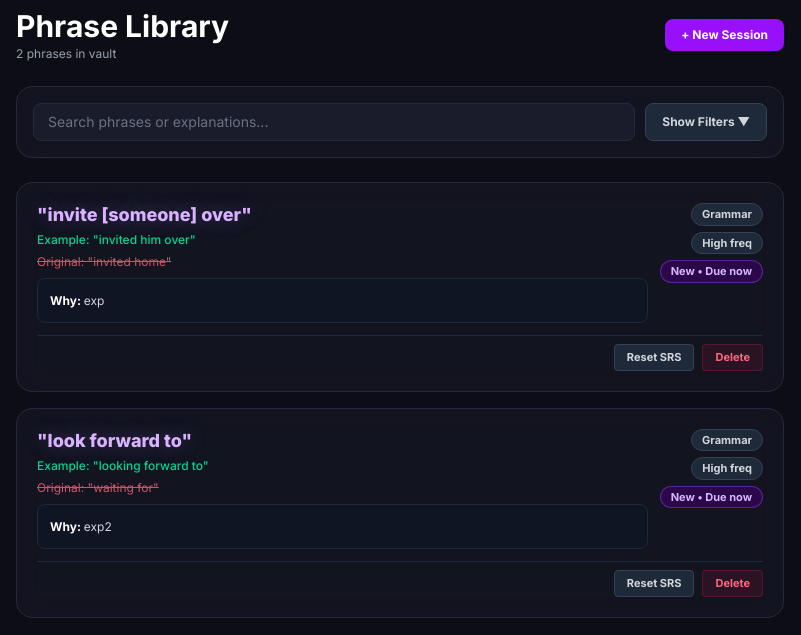
Test: Library Component › displays stored phrases and filters by construction search term
This screenshot has width=801, height=635.
Expected: the text "\"invite [someone] over\"" is shown, [37, 204, 252, 225]
Expected: the text "\"look forward to\"" is shown, [37, 430, 192, 451]
Step 1. Type "forward" into the field with placeholder "Search phrases or explanations..." → (334, 122), box [33, 103, 635, 141]
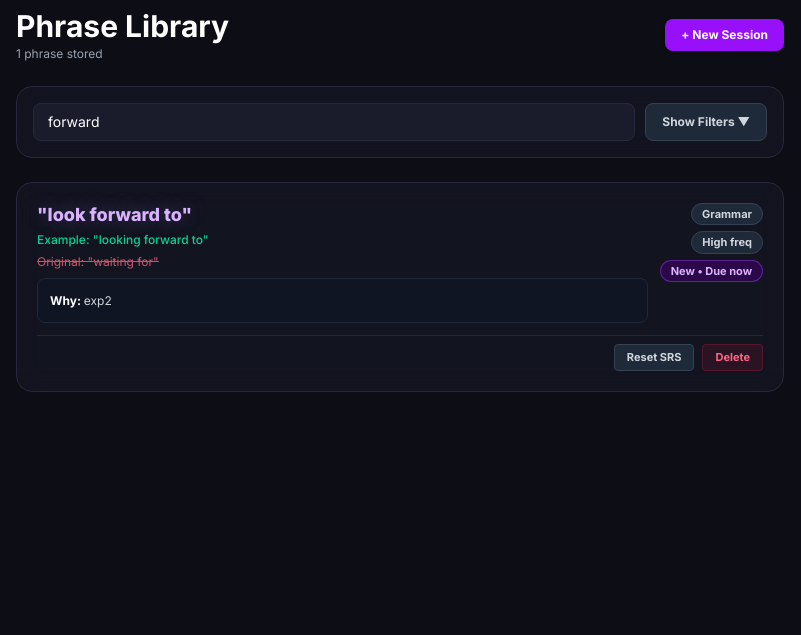
Expected: the text "\"look forward to\"" is shown, [37, 204, 192, 225]
Result: the text "\"invite [someone] over\"" is gone
